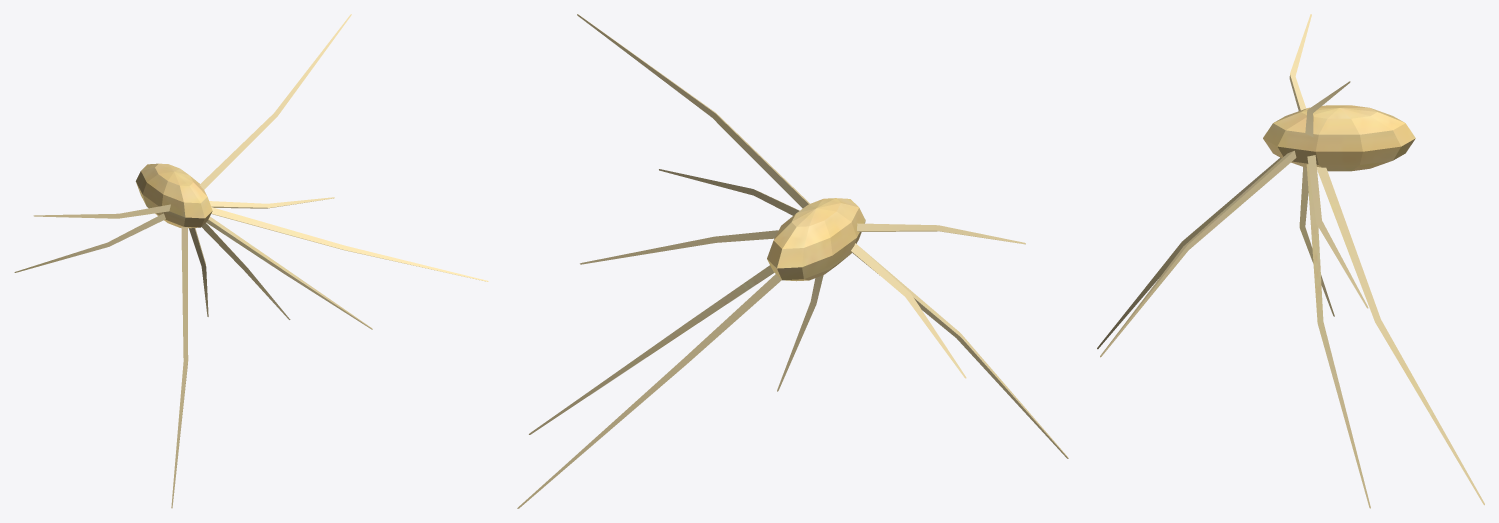
The model's file is jup_aeromite.glb.
The picture shows the model from 3 angles, left to right: view 1: azimuth 30°, elevation 25°; view 2: azimuth 150°, elevation 25°; view 3: azimuth 270°, elevation 25°; orthographic projection. The views are drawn at different scales.
Parts seen in each view (by area): view 1: aeromite_body; view 2: aeromite_body; view 3: aeromite_body.
Boxes of the visible parts, x1,y1,x2,y2 form: aeromite_body: (14, 14, 488, 508); aeromite_body: (517, 14, 1068, 508); aeromite_body: (1097, 14, 1484, 508).
Bounding box in the file's own units: 0.0558 × 0.0506 × 0.0405.
Materials: 2 (2 with a texture image).
